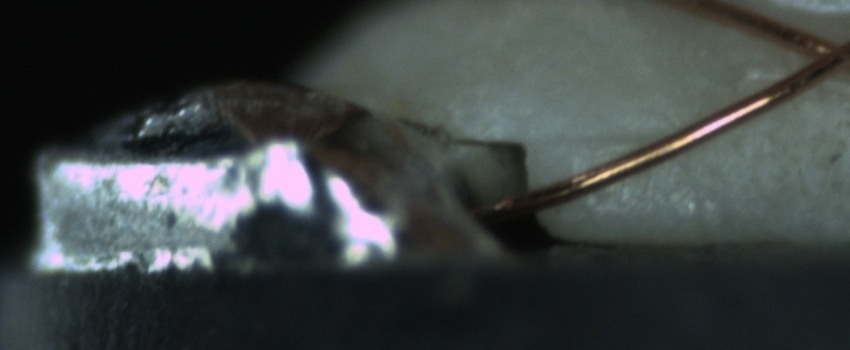CL: (781, 21, 848, 90)
DL: (544, 106, 676, 168)
